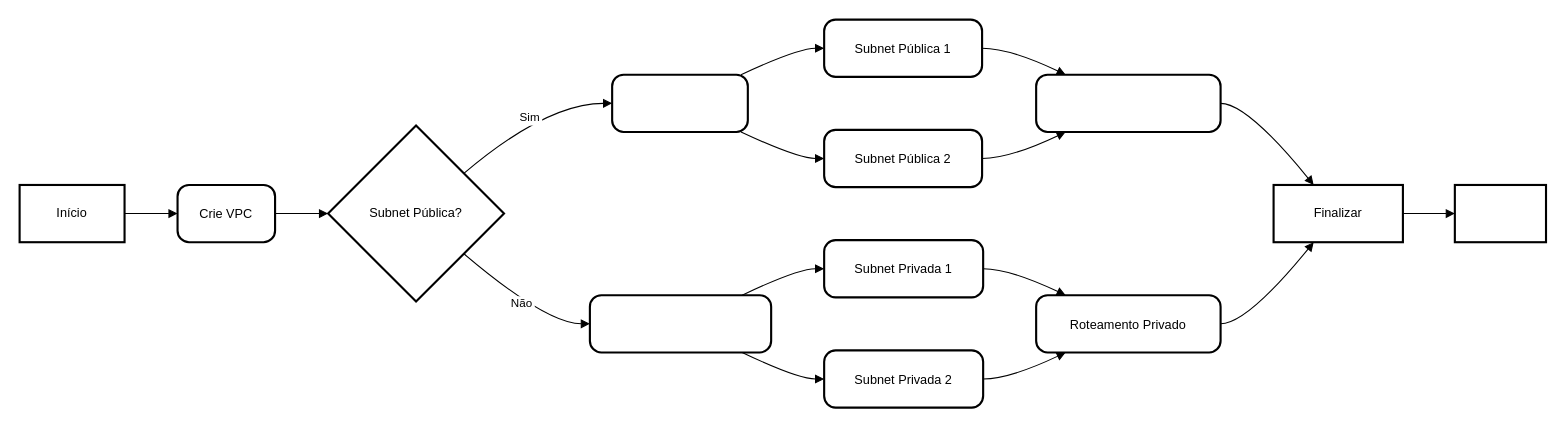
Image size: 1565x426. Some labels were removed from this diagram. The box of each missing label's shape, as (x1, y1, x2, y2) in pixels:
Crie Subnet privada: (588, 294, 772, 353)
Divida Subnet: (611, 73, 748, 132)
Fim: (1453, 183, 1547, 243)
Roteamento Público: (1035, 73, 1221, 132)
